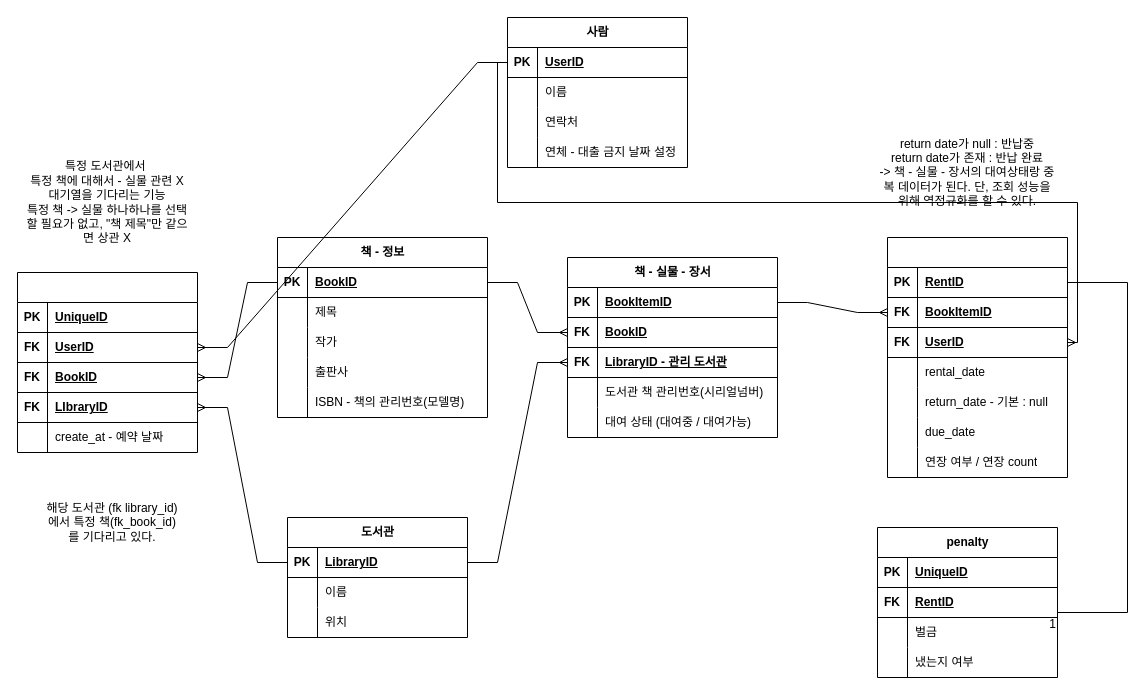
Image size: 1146x695. Some labels were removed from this diagram. The box of each missing label's shape, as (x1, y1, x2, y2) in pixels:
예약: (16, 272, 198, 452)
책_사람_대출: (886, 236, 1068, 478)
